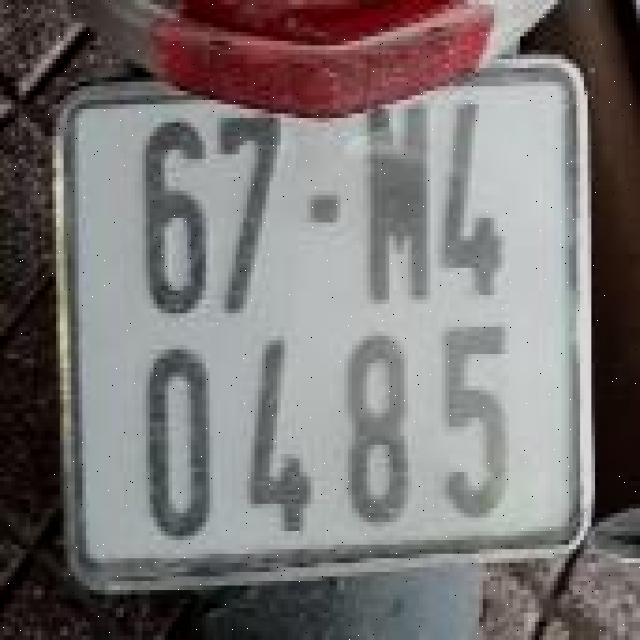0: (140, 343, 216, 542)
4: (238, 331, 328, 545), (438, 97, 516, 302)
5: (432, 318, 518, 531)
6: (134, 114, 210, 332)
7: (206, 111, 288, 320)
8: (335, 322, 417, 536)
M: (350, 91, 428, 313)
